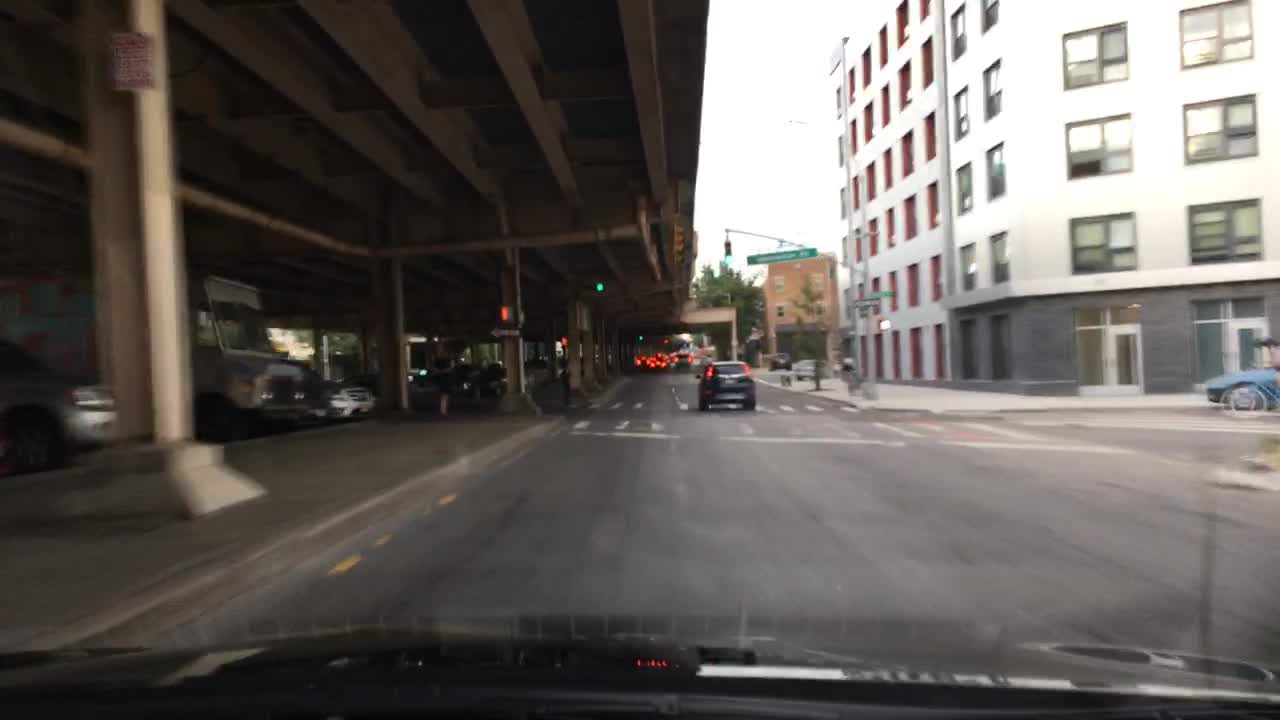car: (0, 330, 115, 468), (1204, 359, 1279, 413), (698, 361, 759, 413), (304, 371, 373, 416), (369, 371, 443, 409), (478, 361, 526, 399), (443, 363, 484, 402), (515, 357, 555, 394), (794, 358, 825, 386), (765, 351, 789, 372), (670, 351, 693, 371)
traffic light: (673, 224, 685, 260), (723, 240, 731, 263), (593, 279, 605, 293)
traffic sign: (112, 33, 156, 88), (747, 245, 818, 264), (489, 326, 520, 340), (855, 297, 878, 306), (870, 289, 894, 296)
truck: (0, 271, 316, 437)
